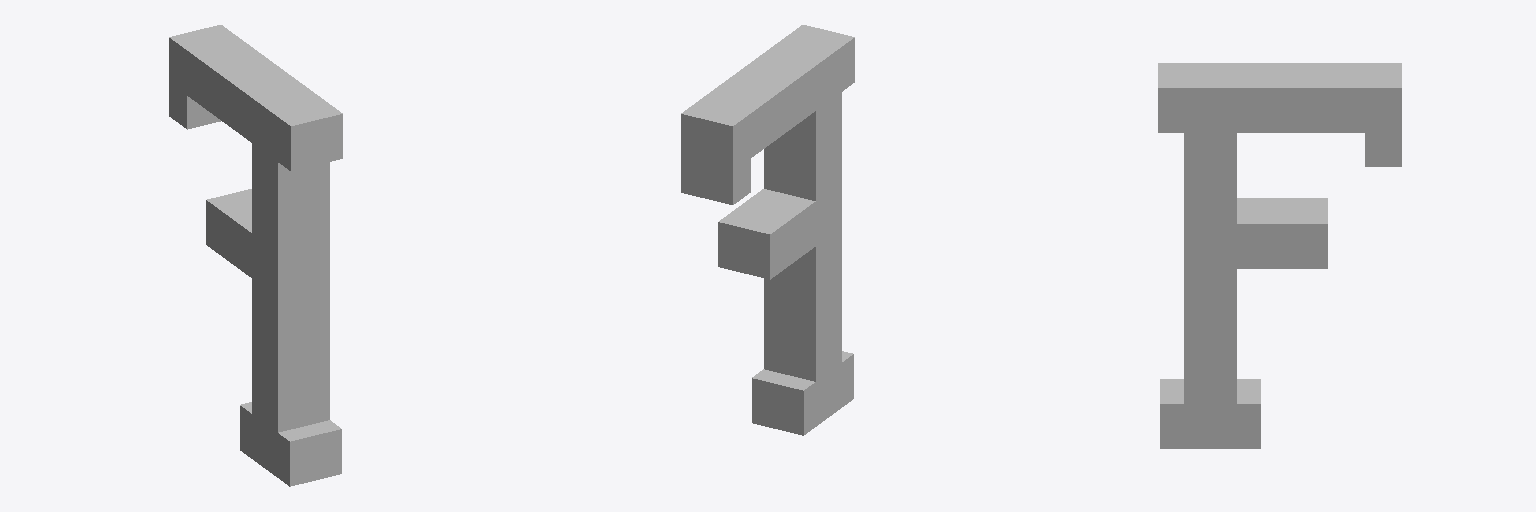
The model's file is letter14.obj.
3 renders of one model, left to right at view 1: azimuth 30°, elevation 25°; view 2: azimuth 150°, elevation 25°; view 3: azimuth 270°, elevation 25°, orthographic.
Parts seen in each view (by area): view 1: pCube1; view 2: pCube1; view 3: pCube1.
Boxes of the visible parts, <box> form: pCube1: <box>169,25,342,486</box>; pCube1: <box>681,25,854,435</box>; pCube1: <box>1158,63,1401,448</box>.
Size of the model in its own units: 0.4602 by 3.04 by 1.86.